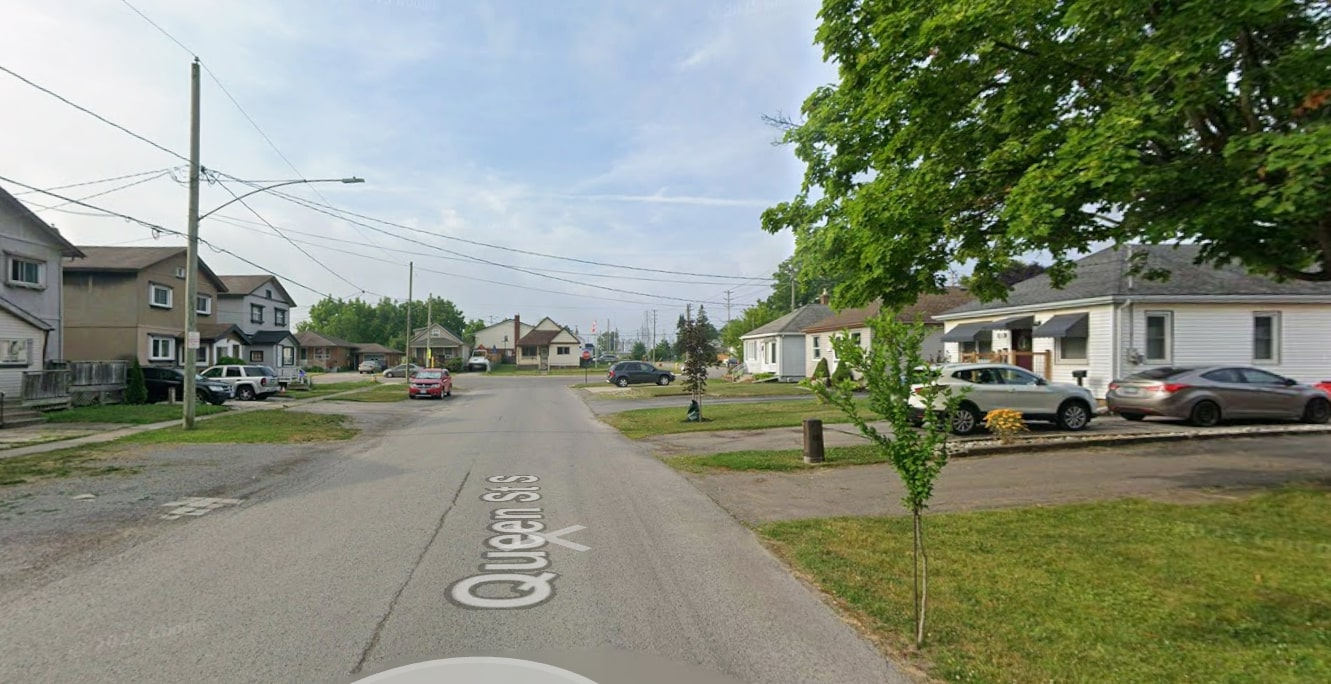cracks: (330, 544, 440, 684), (409, 467, 486, 543)
